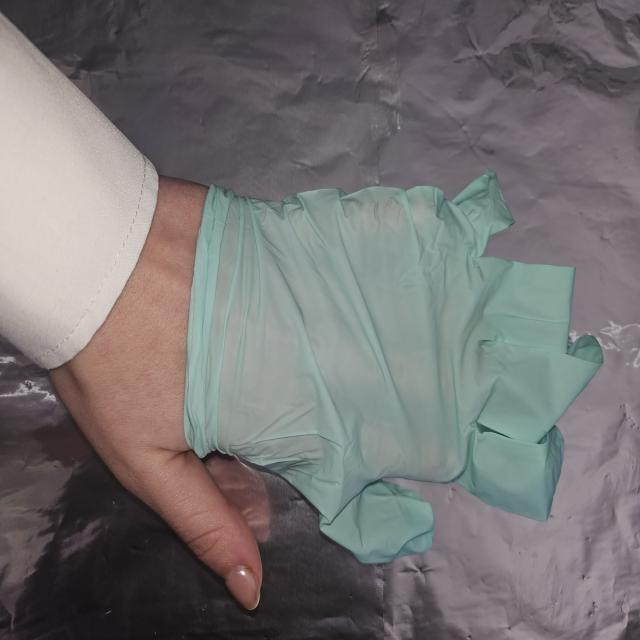glove_partial: (58, 170, 604, 609)
